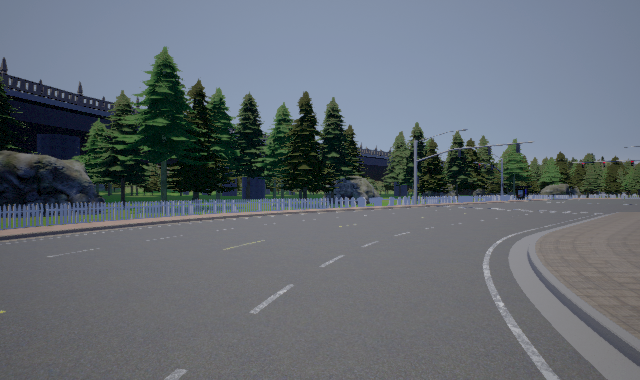traffic_light: (631, 160, 634, 166), (603, 162, 605, 168), (582, 163, 584, 168)
